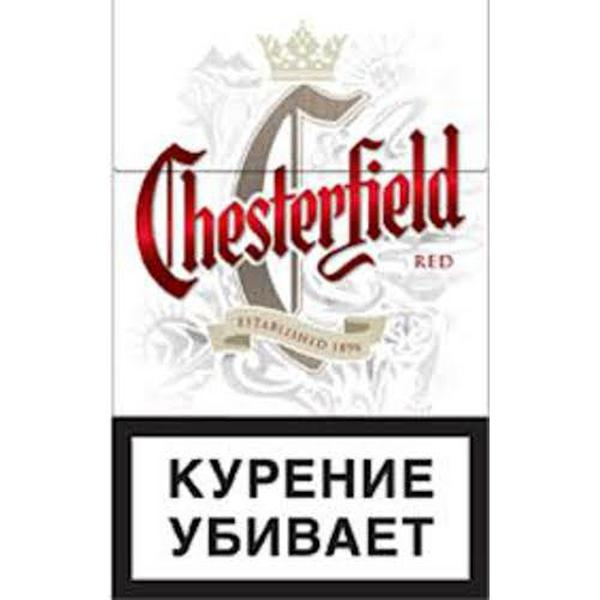chesterfield_red: (112, 1, 488, 599)
